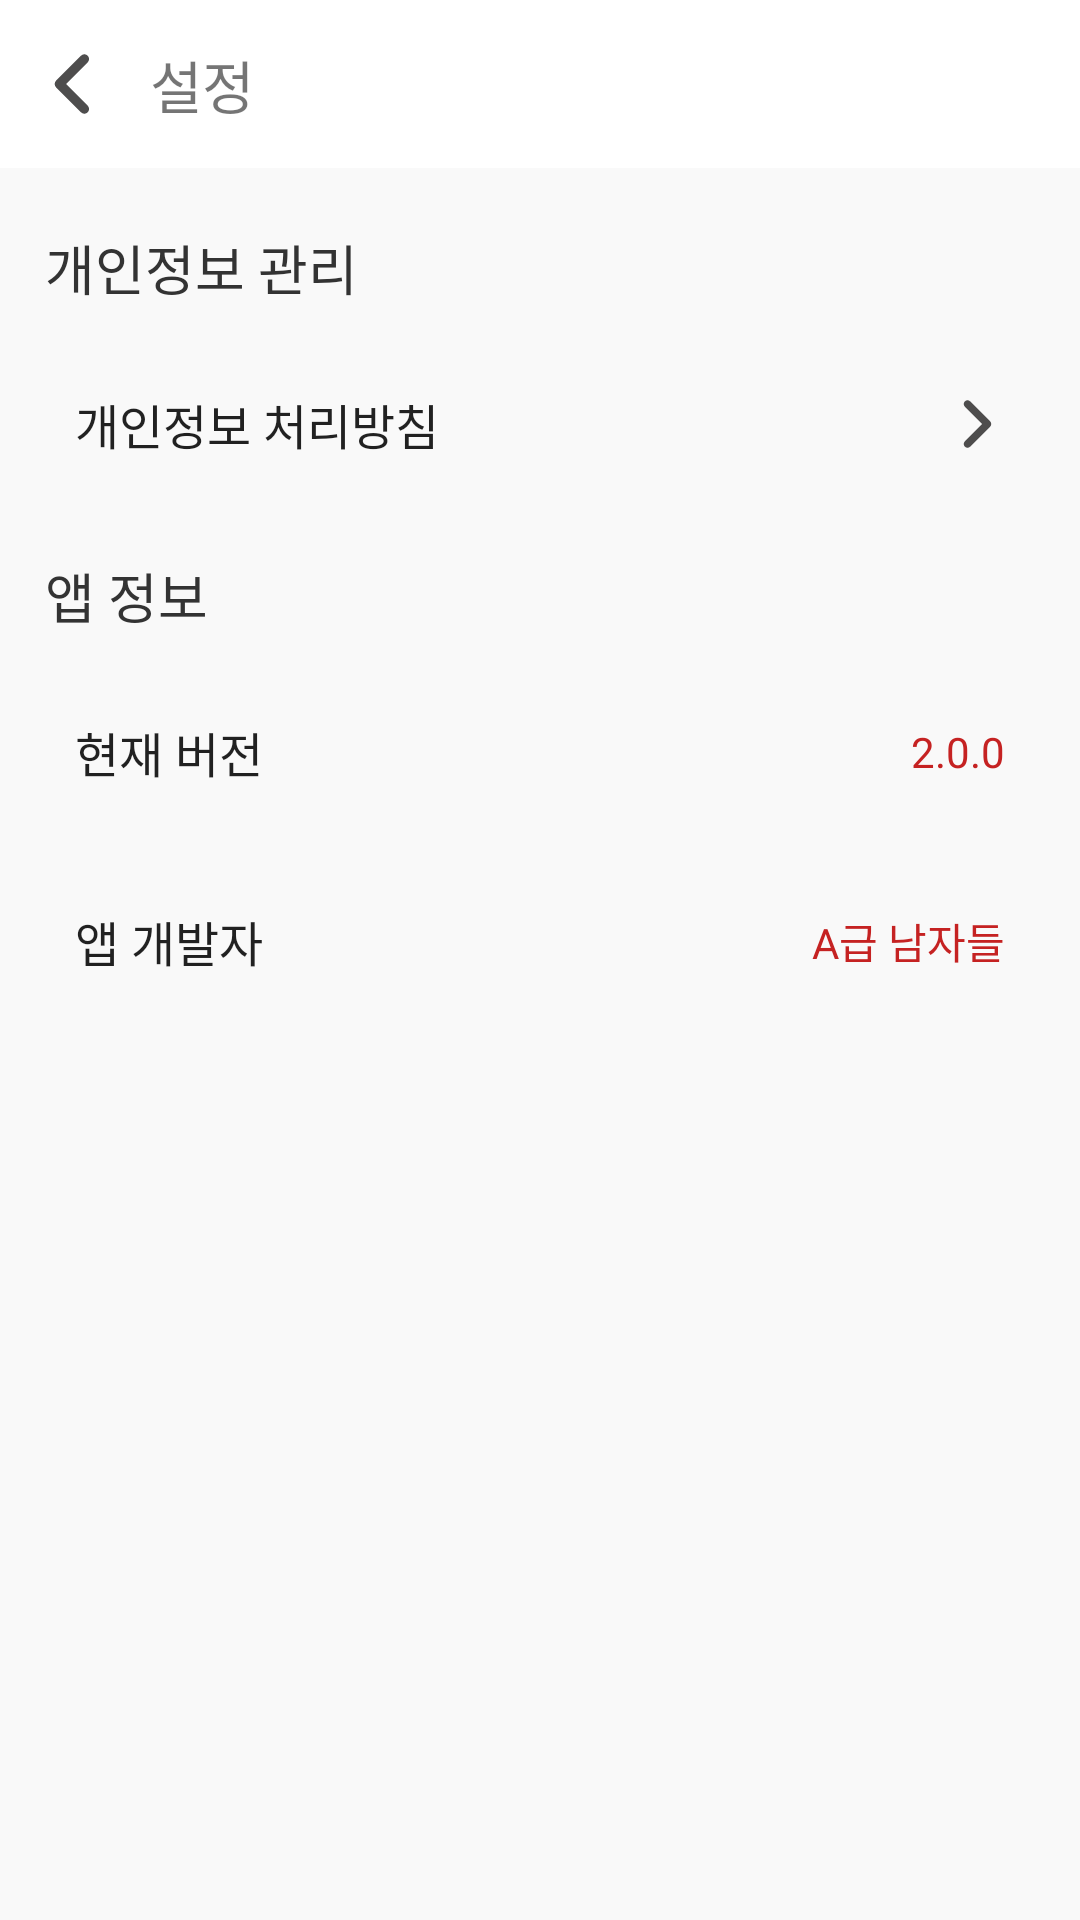

Icons on this 1080 x 1920 Android screen, each with the point to tap as (x=x, y=y):
arrow left: (x=71, y=84)
arrow right: (x=977, y=424)
